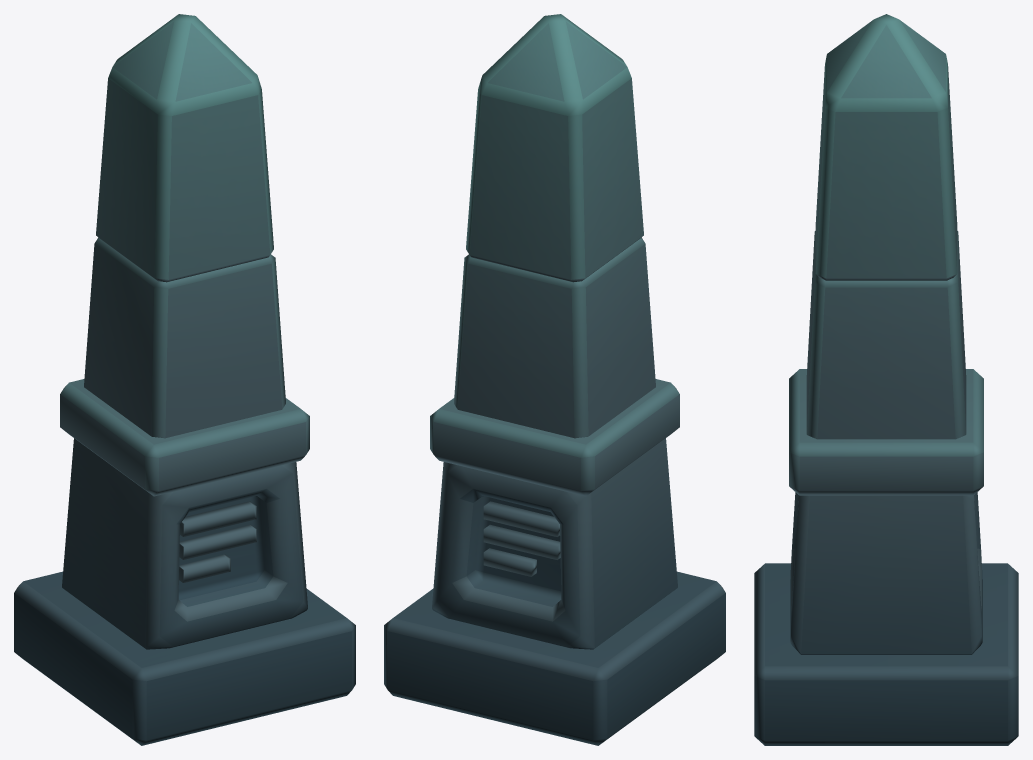
The model's file is obelisk.fbx.
3 renders of one model, left to right at view 1: azimuth 30°, elevation 25°; view 2: azimuth 150°, elevation 25°; view 3: azimuth 270°, elevation 25°, orthographic. The views are drawn at different scales.
Parts seen in each view (by area): view 1: obelisk; view 2: obelisk; view 3: obelisk.
Part boxes in pixels (x1,y1,x2,y2): obelisk: (14, 14, 355, 745); obelisk: (384, 14, 725, 745); obelisk: (754, 14, 1018, 745).
Bounding box in the file's own units: 150 × 423 × 150.
